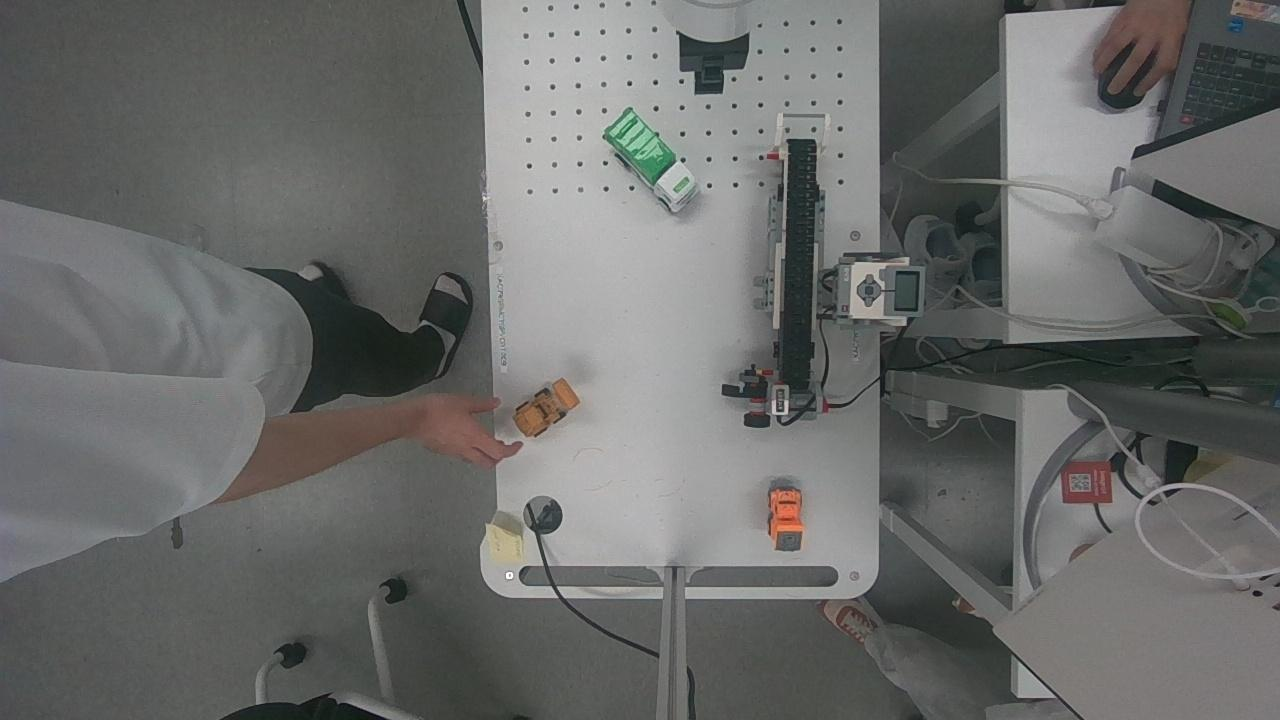green_car: (598, 104, 701, 220)
orange_car: (764, 481, 806, 550)
yellow_car: (512, 377, 582, 443)
